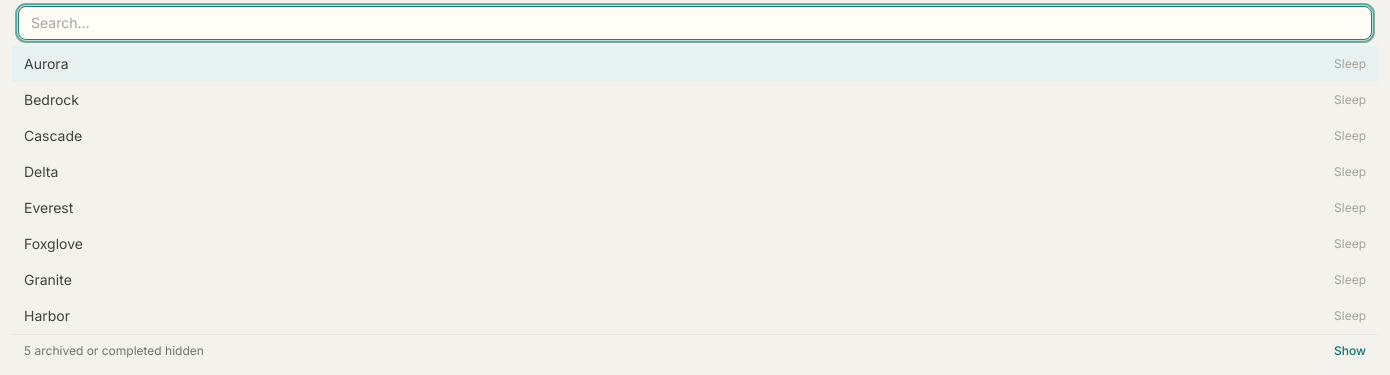
Test: PickerBody › still offers to create a genuinely new name
Type "Brand New Thing" into the field at (695, 23), box [18,6,1372,40]
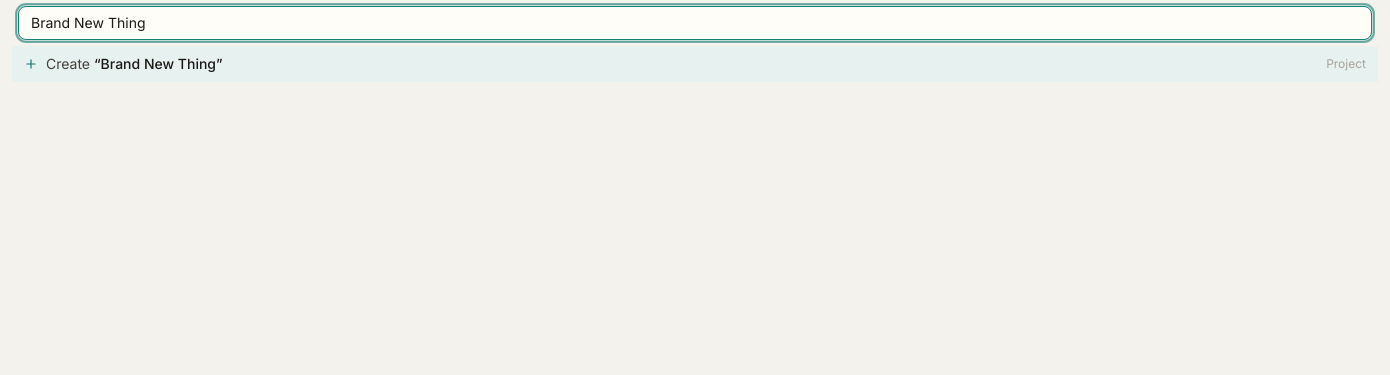
Expected: the text "Create “Brand New Thing”" is shown, [46,54,223,74]
